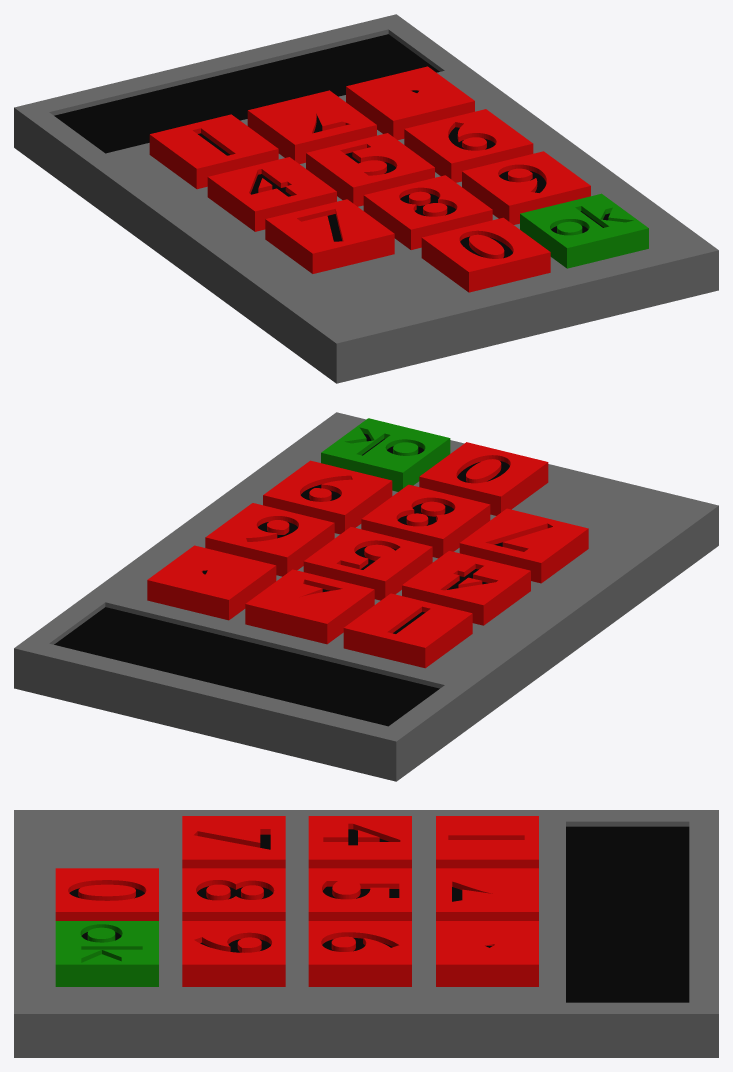
The model's file is code_panel.fbx.
3 renders of one model, top to bottom at view 1: azimuth 30°, elevation 25°; view 2: azimuth 150°, elevation 25°; view 3: azimuth 270°, elevation 25°, orthographic. The views are drawn at different scales.
Visible parts, largest first — view 1: Plane, 7, 0, enter, 1, 4, 8, 2, 3, 9, 6, 5; view 2: Plane, 1, 2, 3, 4, 7, 0, 5, 6, enter, 8, 9; view 3: Plane, 6, 9, enter, 3, 7, 5, 8, 0, 4, 1, 2.
Part boxes in pixels (x1,y1,x2,y2): Plane: [14, 14, 718, 383]; 7: [265, 199, 394, 273]; 0: [421, 217, 550, 292]; enter: [520, 193, 648, 268]; 1: [149, 114, 278, 189]; 4: [207, 157, 336, 231]; 8: [363, 175, 492, 249]; 2: [247, 90, 376, 163]; 3: [346, 66, 474, 139]; 9: [462, 151, 590, 224]; 6: [404, 109, 533, 182]; 5: [306, 133, 434, 206]; Plane: [14, 412, 718, 781]; 1: [343, 593, 472, 668]; 2: [245, 569, 374, 644]; 3: [147, 545, 276, 620]; 4: [402, 551, 530, 625]; 7: [459, 508, 588, 583]; 0: [419, 442, 548, 515]; 5: [303, 527, 432, 600]; 6: [205, 503, 334, 576]; enter: [321, 418, 450, 491]; 8: [361, 484, 490, 558]; 9: [263, 460, 392, 534]; Plane: [14, 810, 718, 1057]; 6: [308, 921, 411, 986]; 9: [182, 921, 285, 986]; enter: [55, 921, 158, 986]; 3: [436, 921, 538, 986]; 7: [182, 816, 285, 868]; 5: [308, 868, 411, 920]; 8: [182, 868, 285, 920]; 0: [55, 868, 158, 920]; 4: [308, 816, 411, 868]; 1: [436, 816, 538, 868]; 2: [436, 868, 538, 920].
Size of the model in its own units: 286 by 43.3 by 417.
